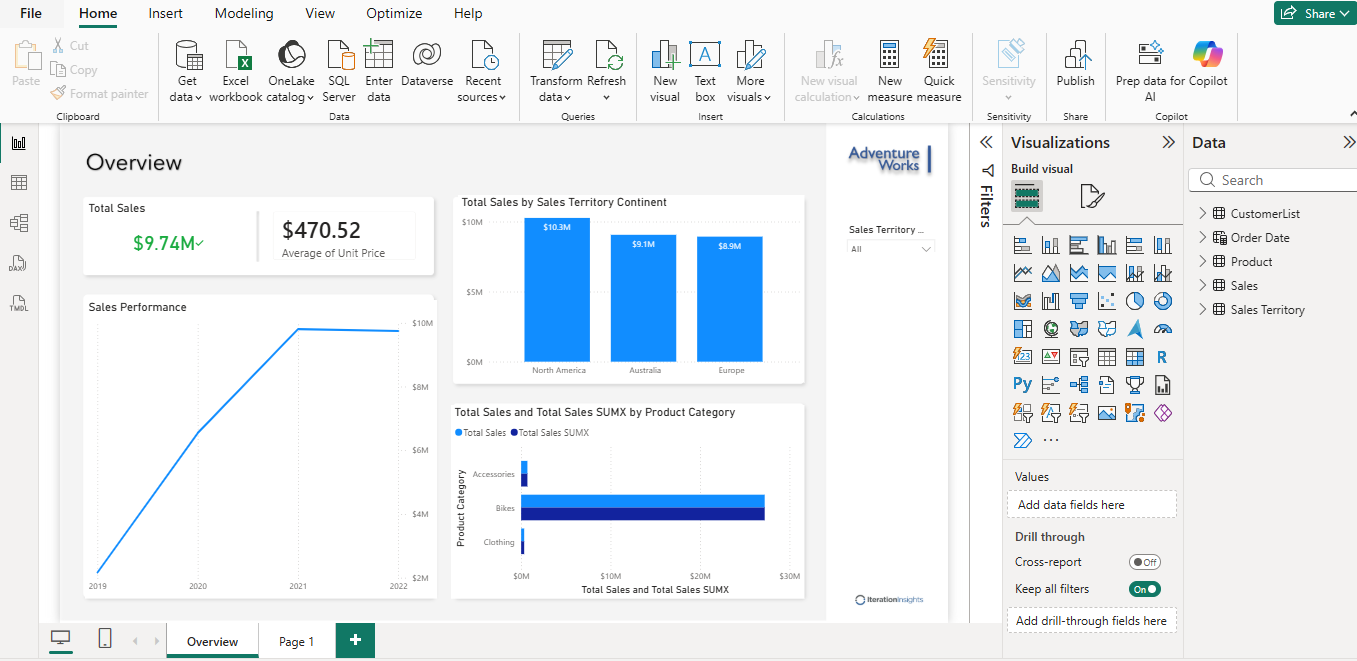

This screenshot's page, from the dashboard's own definition file:
{"tool":"powerbi","page":{"name":"Overview","canvas":[1280,720],"ordinal":0},"visuals":[{"type":"clusteredColumnChart","fields":{"Category":["Sales Territory.Sales Territory  Continent"],"Y":["Sales.Total Sales"]},"box":[572.9,104.3,498.6,270],"z":0},{"type":"clusteredBarChart","fields":{"Category":["Product.Product Category","Product.ProductSubcategory"],"Y":["Sales.Total Sales","Sales.Total Sales SUMX"]},"box":[562.9,405.7,508.6,278.6],"z":1000},{"type":"lineChart","title":"Sales Performance","fields":{"Category":["Order Date.Order Date Year"],"Y2":["Sales.Total Sales"]},"box":[35.7,254.3,507.1,430],"z":2000},{"type":"kpi","title":"Total Sales ","fields":{"Indicator":["Sales.Total Sales"],"TrendLine":["Order Date.Order Date Year"],"Goal":["Avg(Sales.Unit Price)"]},"box":[35.7,112.9,240,100],"z":3000},{"type":"cardVisual","fields":{"Data":["Avg(Sales.Unit Price)"]},"box":[290,112.9,240,100],"z":4000},{"type":"slicer","fields":{"Values":["Sales Territory.Sales Territory  Continent"]},"box":[1122.9,140,147.1,45.7],"z":5000}]}

Visuals, with their boxes on the page's 1280x720 design canvas (x1, y1, x2, y2). These are canvas units, not pixel positions in the 1357x661 screenshot, which may show the page scaled, cropped or inside an application window:
clusteredColumnChart - Sales Territory.Sales Territory  Continent x Sales.Total Sales: (573,104,1072,374)
clusteredBarChart - Product.Product Category x Product.ProductSubcategory: (563,406,1072,684)
"Sales Performance" lineChart: (36,254,543,684)
"Total Sales " kpi: (36,113,276,213)
cardVisual - Avg(Sales.Unit Price): (290,113,530,213)
slicer - Sales Territory.Sales Territory  Continent: (1123,140,1270,186)
